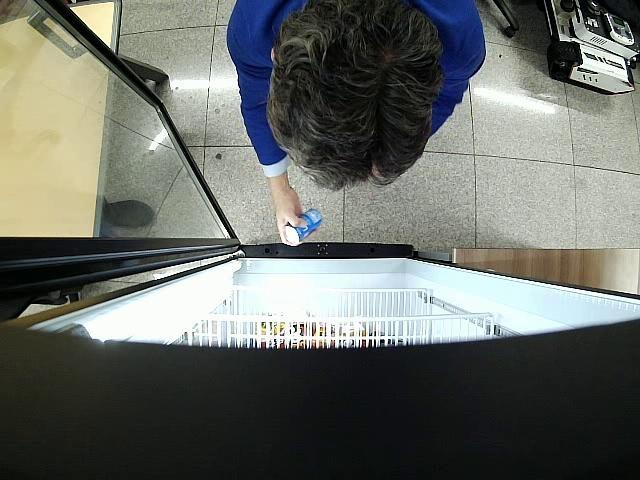15_letsbe: (284, 208, 322, 244)
